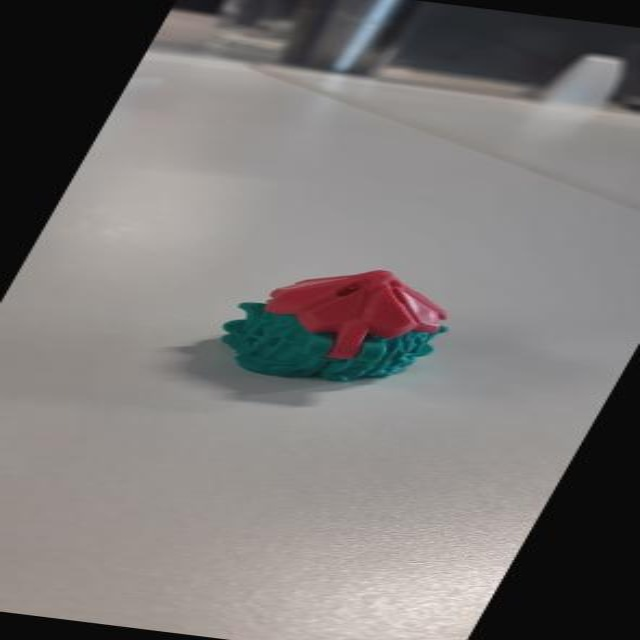House: (183, 247, 487, 397)
